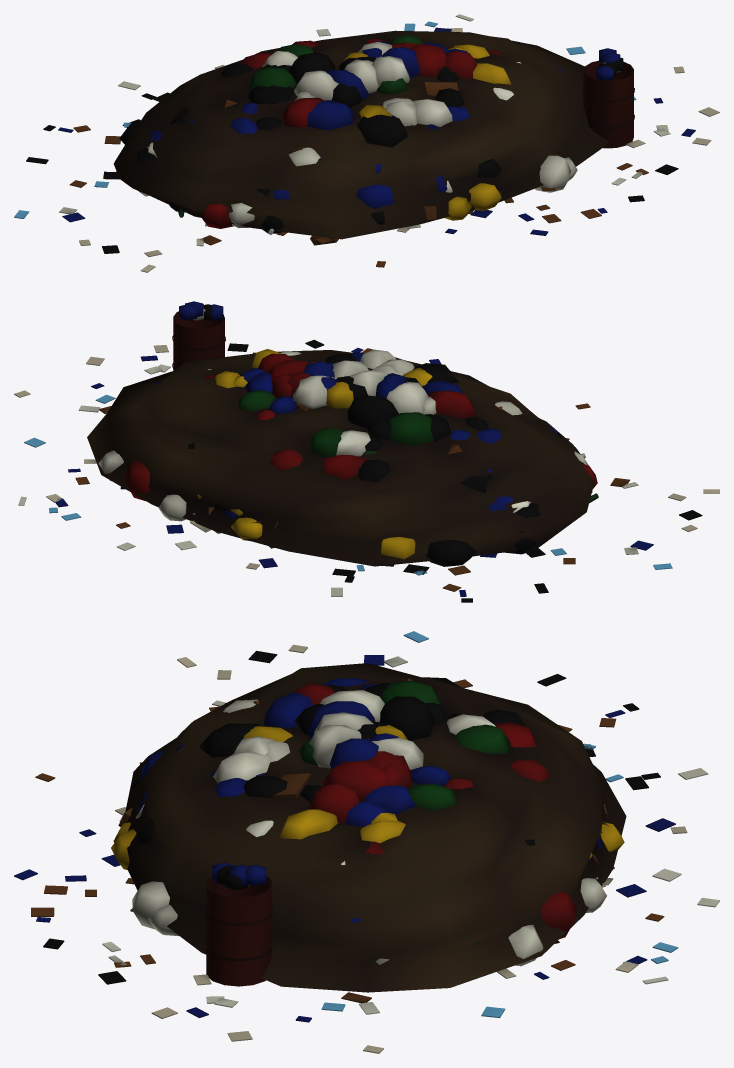
The model's file is mk_bola.glb.
The picture shows the model from 3 angles, top to bottom: view 1: azimuth 30°, elevation 25°; view 2: azimuth 150°, elevation 25°; view 3: azimuth 270°, elevation 25°; orthographic projection. The views are drawn at different scales.
Visible parts, largest first — view 1: mk_bola; view 2: mk_bola; view 3: mk_bola.
Part boxes in pixels (left/top/right/bottom): mk_bola: left=14, top=14, right=719, bottom=272; mk_bola: left=14, top=301, right=719, bottom=602; mk_bola: left=14, top=631, right=719, bottom=1053.
Size of the model in its own units: 8.94 by 1.43 by 6.33.
